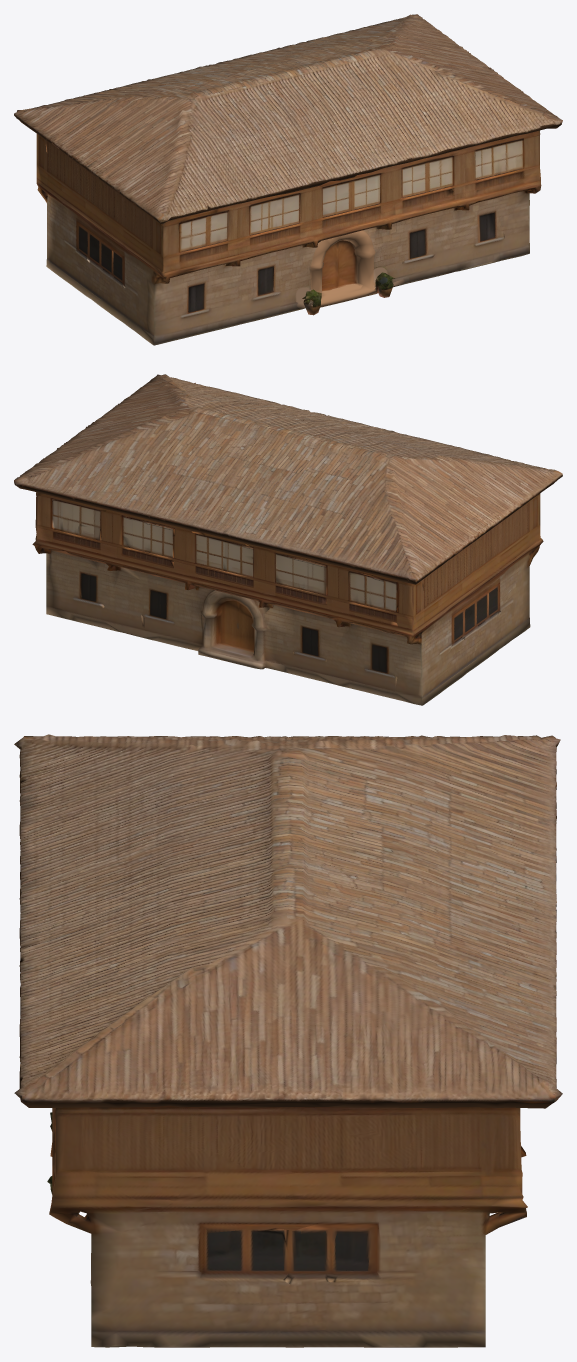
File: Meshy_AI_Philippines_Mansion_0501062204_texture.fbx
3 renders of one model, top to bottom at view 1: azimuth 30°, elevation 25°; view 2: azimuth 150°, elevation 25°; view 3: azimuth 270°, elevation 25°, orthographic. The views are drawn at different scales.
Parts seen in each view (by area): view 1: Mesh_0; view 2: Mesh_0; view 3: Mesh_0.
Part boxes in pixels (box(x1,y1,x2,y2)): Mesh_0: box(14, 14, 562, 345); Mesh_0: box(14, 374, 562, 705); Mesh_0: box(14, 734, 562, 1347).
Bounding box in the file's own units: 191 × 85.29 × 122.
1 material, 1 textured.
